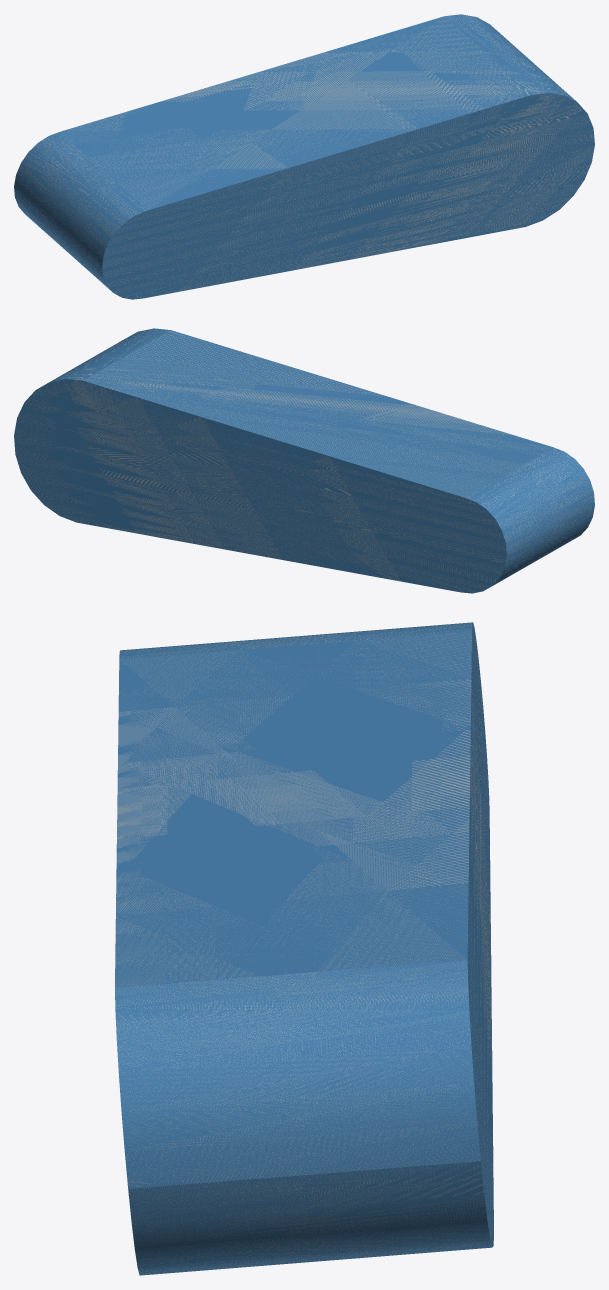
The model's file is p2LeftFlipper.dae.
The picture shows the model from 3 angles, top to bottom: view 1: azimuth 30°, elevation 25°; view 2: azimuth 150°, elevation 25°; view 3: azimuth 270°, elevation 25°; orthographic projection. The views are drawn at different scales.
Visible parts, largest first — view 1: SketchUp; view 2: SketchUp; view 3: SketchUp.
Part boxes in pixels (box(x1,y1,x2,y2)): SketchUp: box(14, 14, 594, 299); SketchUp: box(14, 328, 594, 593); SketchUp: box(115, 622, 493, 1275).
Bounding box in the file's own units: 443 × 148 × 130.
